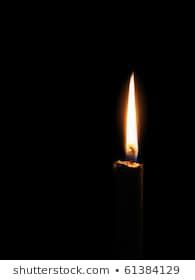fire: (121, 67, 140, 161)
